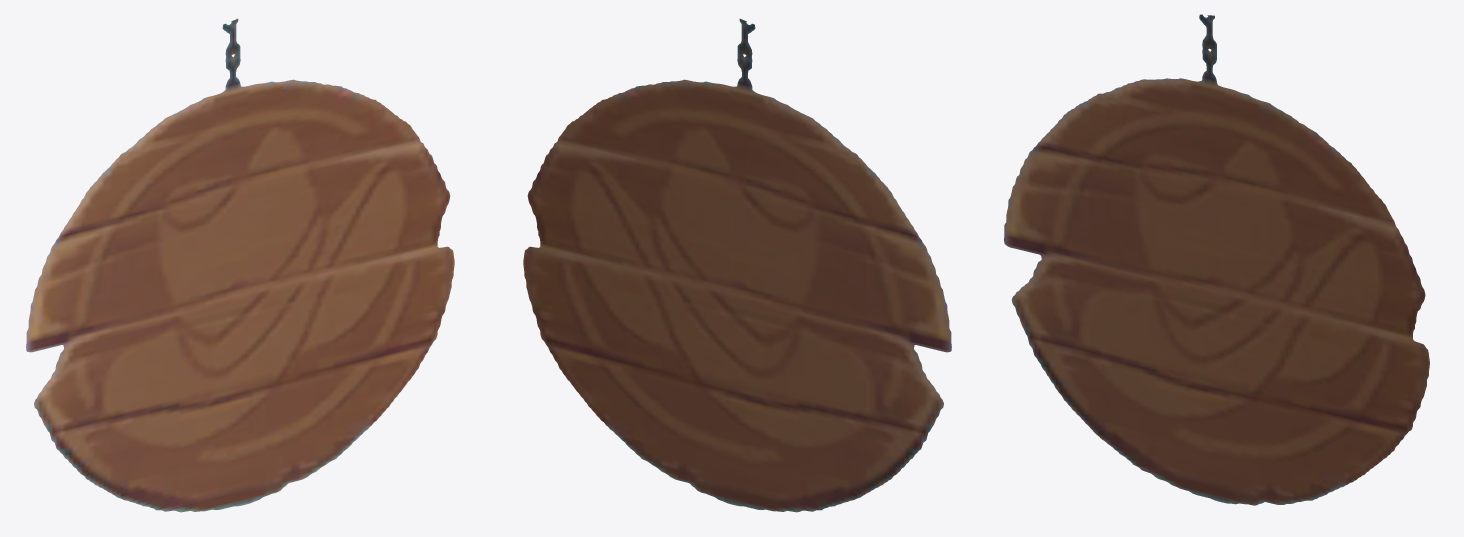
File: pref_sm_sce_080705_windmill02_lv3.fbx
The picture shows the model from 3 angles, left to right: view 1: azimuth 30°, elevation 25°; view 2: azimuth 150°, elevation 25°; view 3: azimuth 330°, elevation 25°; orthographic projection.
Visible parts, largest first — view 1: sm_sce_080705_background05_billboard_lv3; view 2: sm_sce_080705_background05_billboard_lv3; view 3: sm_sce_080705_background05_billboard_lv3.
Part boxes in pixels (x1=…): sm_sce_080705_background05_billboard_lv3: x1=26, y1=18, x2=454, y2=512; sm_sce_080705_background05_billboard_lv3: x1=523, y1=18, x2=951, y2=512; sm_sce_080705_background05_billboard_lv3: x1=1004, y1=14, x2=1429, y2=505.
Size of the model in its own units: 2.57 by 2.68 by 1.3e-06.
